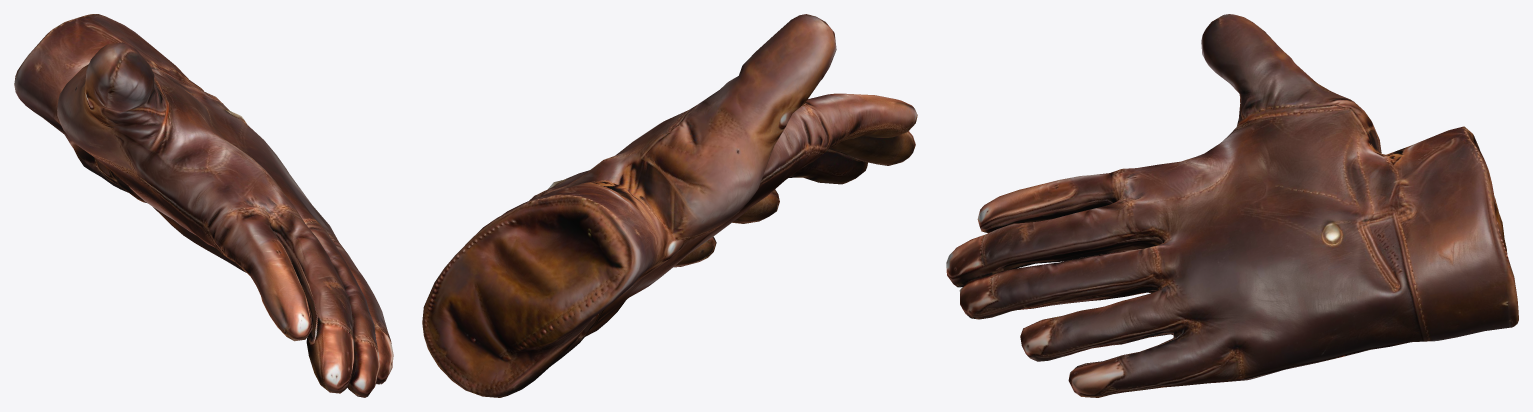
The picture shows the model from 3 angles, left to right: view 1: azimuth 30°, elevation 25°; view 2: azimuth 150°, elevation 25°; view 3: azimuth 270°, elevation 25°; orthographic projection. The views are drawn at different scales.
Parts seen in each view (by area): view 1: Mesh1.0; view 2: Mesh1.0; view 3: Mesh1.0.
Part boxes in pixels (x1=…): Mesh1.0: x1=14, y1=14, x2=393, y2=397; Mesh1.0: x1=422, y1=14, x2=917, y2=397; Mesh1.0: x1=946, y1=14, x2=1518, y2=397.
Bounding box in the file's own units: 91.88 × 116 × 200.
Materials: 1 (1 with a texture image).
